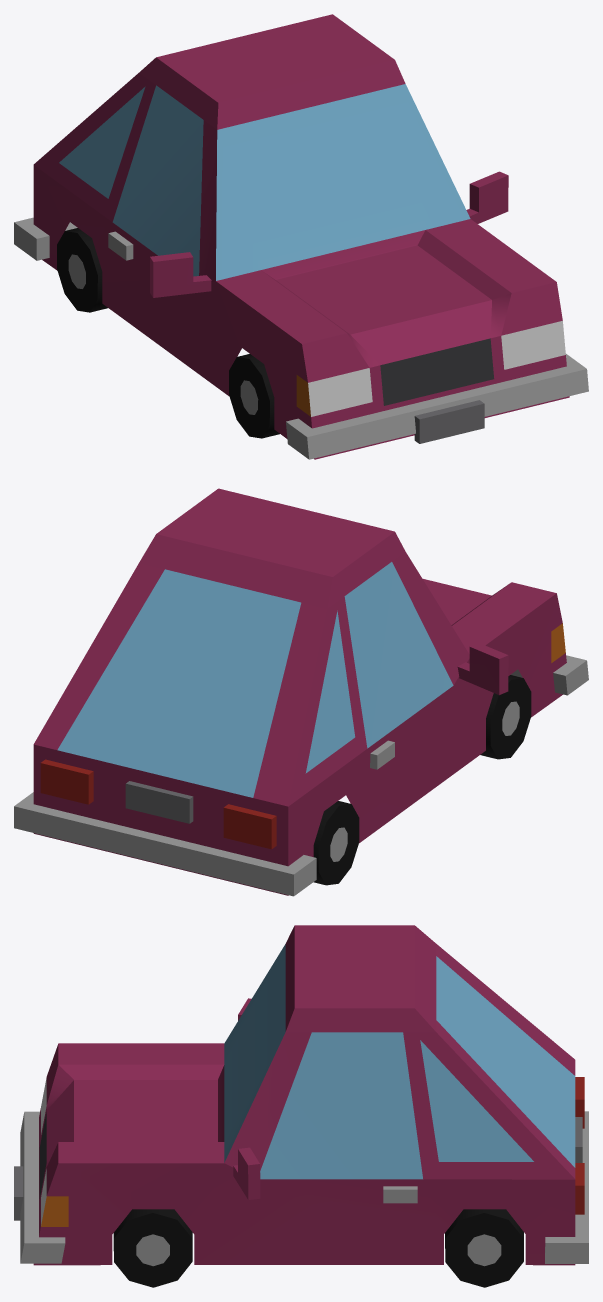
Rendered from Car_06_pink.fbx.
3 views of the same model, one above another, from view 1: azimuth 30°, elevation 25°; view 2: azimuth 150°, elevation 25°; view 3: azimuth 270°, elevation 25° (orthographic). The views are drawn at different scales.
Parts seen in each view (by area): view 1: Car_06_pink; view 2: Car_06_pink; view 3: Car_06_pink.
Boxes of the visible parts, x1,y1,x2,y2 form: Car_06_pink: [14, 14, 588, 459]; Car_06_pink: [14, 488, 588, 896]; Car_06_pink: [14, 925, 588, 1287].
Size of the model in its own units: 60.1 by 43.58 by 87.47.
